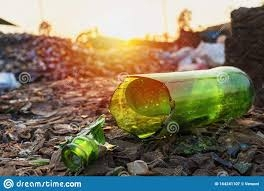glass: (110, 64, 254, 138), (55, 112, 118, 171)
